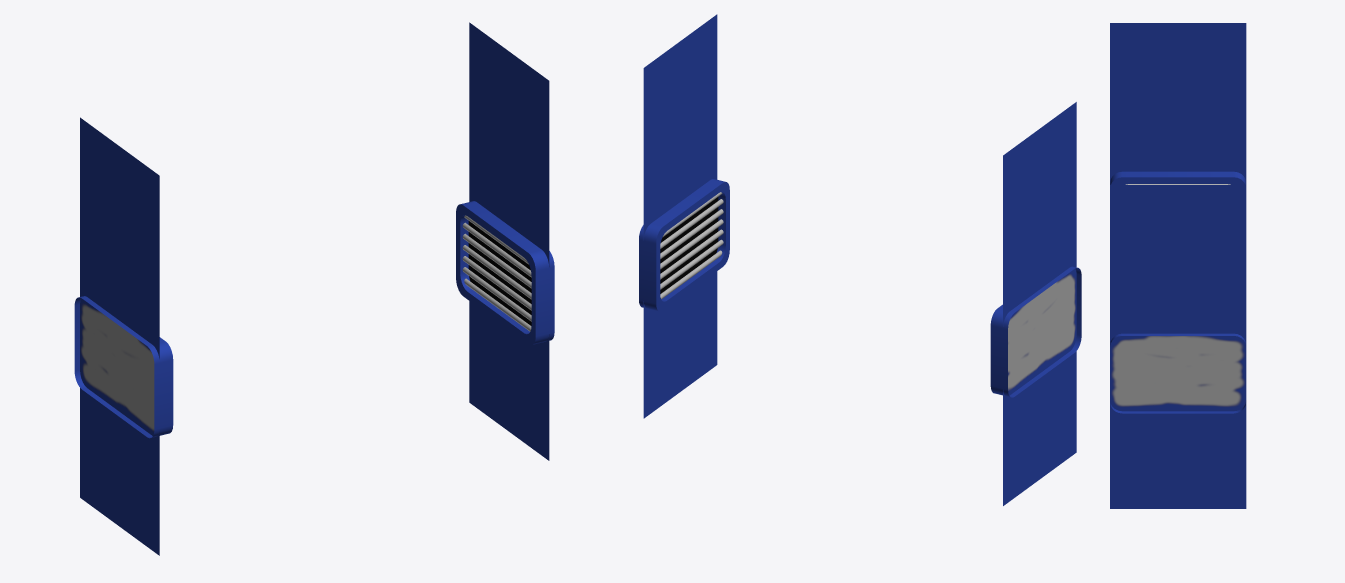
The model's file is Sylux Hud.fbx.
The picture shows the model from 3 angles, left to right: view 1: azimuth 30°, elevation 25°; view 2: azimuth 150°, elevation 25°; view 3: azimuth 270°, elevation 25°; orthographic projection. The views are drawn at different scales.
Parts seen in each view (by area): view 1: Cube; view 2: Cube; view 3: Cube.
Boxes of the visible parts, left/top/right/bottom form: Cube: left=74, top=22, right=554, bottom=555; Cube: left=639, top=14, right=1081, bottom=505; Cube: left=1110, top=23, right=1246, bottom=508.
Bounding box in the file's own units: 616 × 623 × 328.
